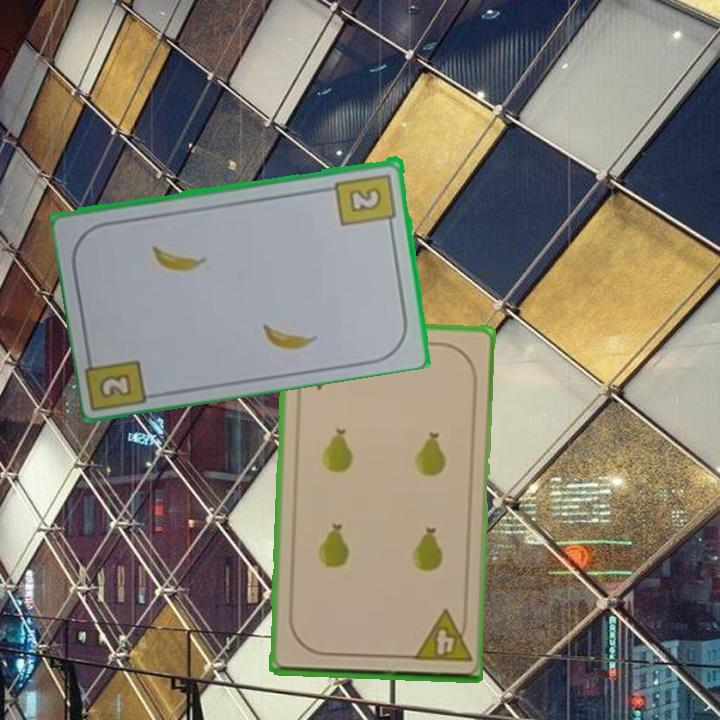2b: (332, 170, 400, 231), (99, 373, 131, 398)
4p: (409, 607, 474, 665)
